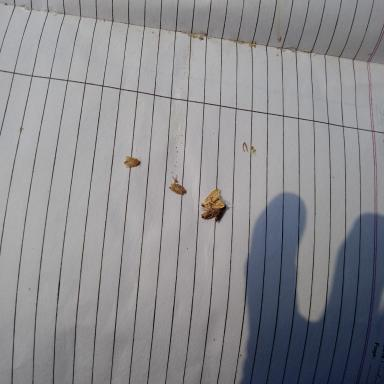abw: (200, 189, 225, 209)
pbw: (202, 204, 228, 221), (169, 182, 187, 196), (123, 155, 142, 168)
